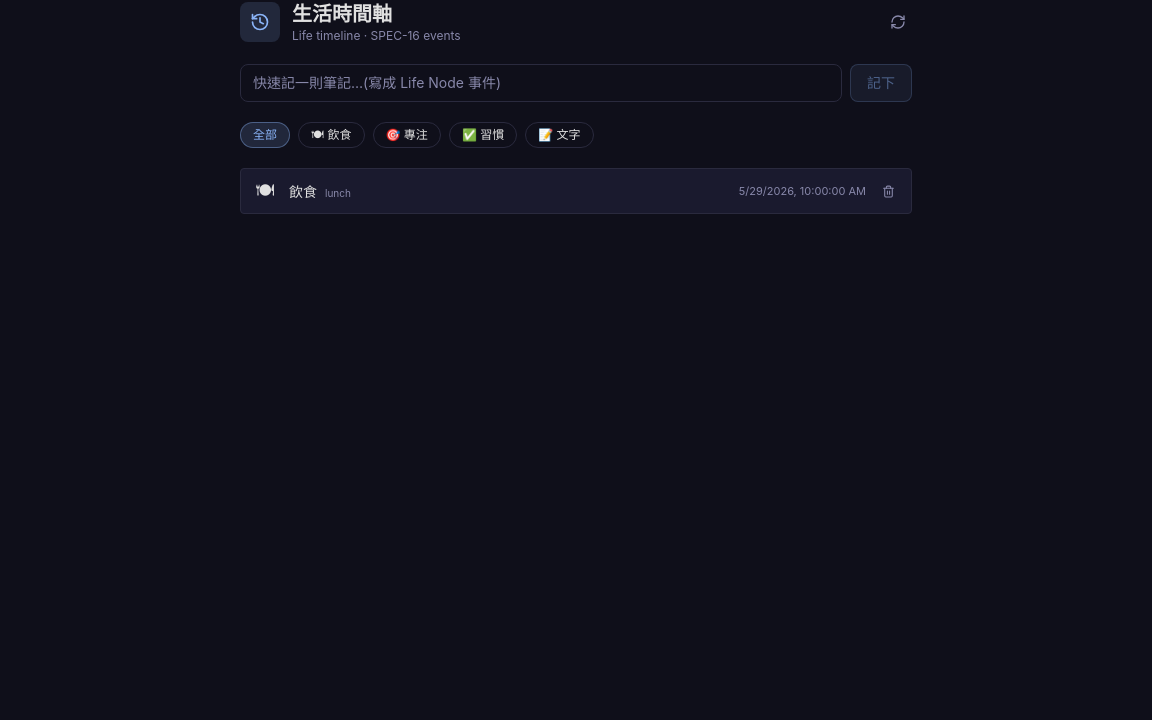
Test: EventTimeline screen › does NOT crash when opening an event whose showEvent returns a PARTIAL detail
The width and height of the screenshot is (1152, 720).
wait for the event row to appear
Click the button titled "檢視詳情". click: (303, 192)
box: [289,179,727,203]
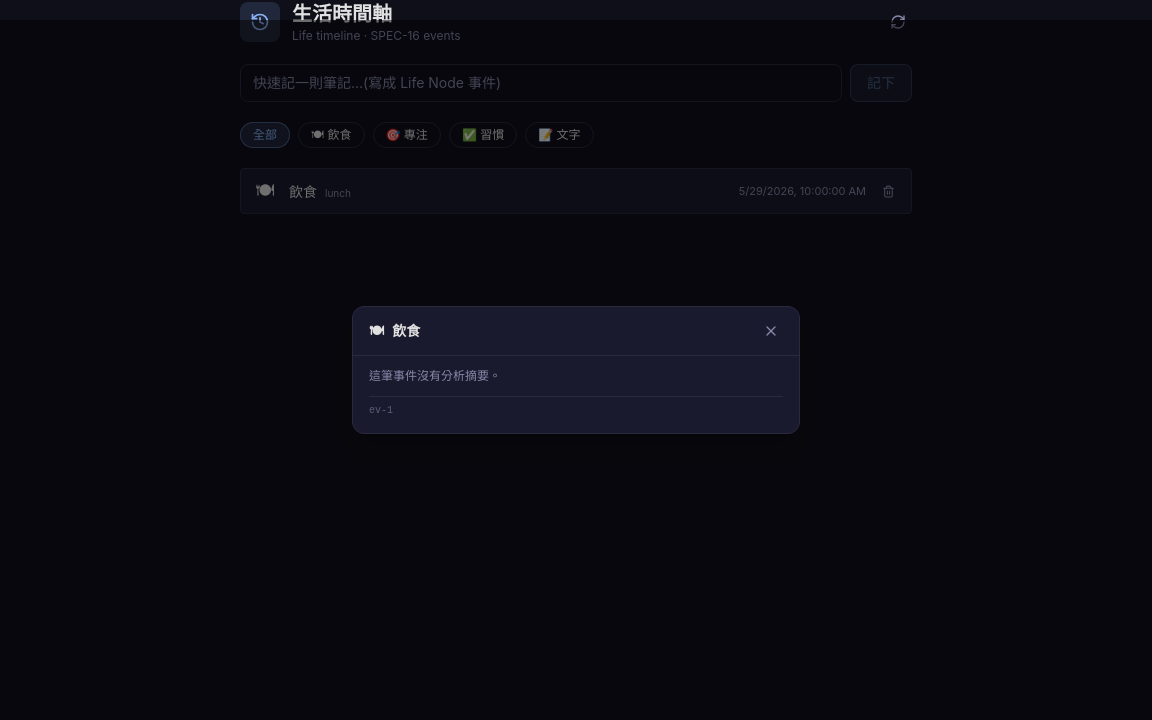
Check: the element with test id "event-timeline" is shown, box [240,0,912,214]
Check: the element with test id "event-detail-modal" is shown, box [352,306,800,434]
